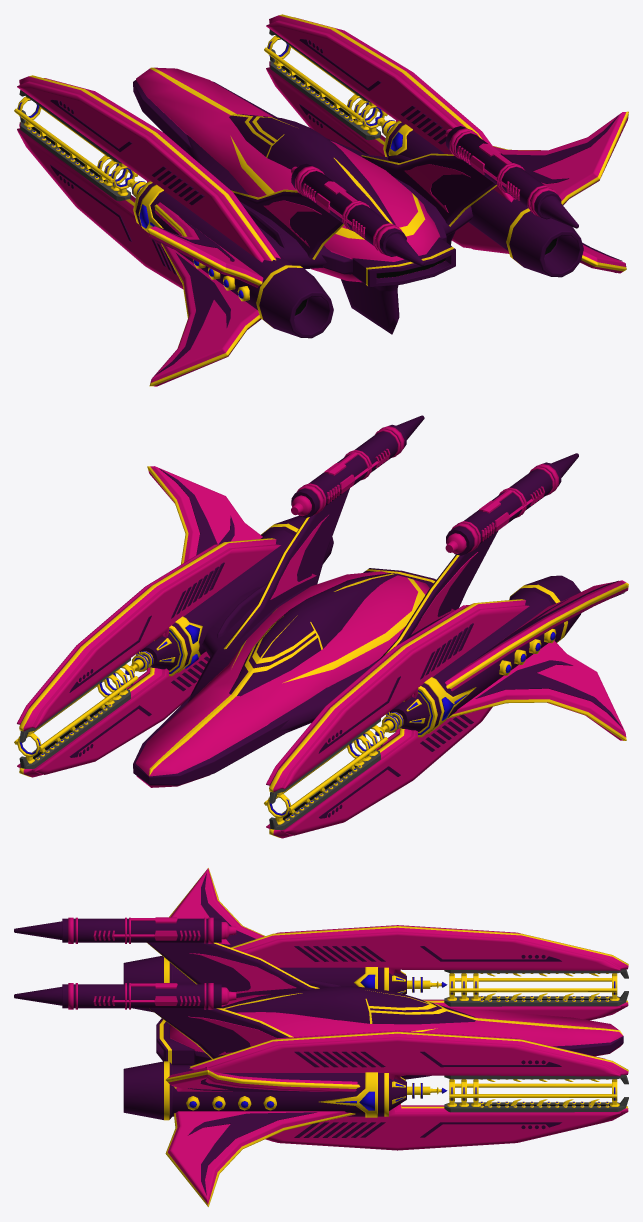
Rendered from AlienStarfighter30.obj.
3 renders of one model, top to bottom at view 1: azimuth 30°, elevation 25°; view 2: azimuth 150°, elevation 25°; view 3: azimuth 270°, elevation 25°, orthographic. The views are drawn at different scales.
Visible parts, largest first — view 1: Cylinder.003_Cylinder.005, Sphere.002_Sphere.004, Cylinder.001_Cylinder.006, Cube.001, Cylinder.004_Cylinder.002, Cube.004_Cube.002, Sphere.001_Sphere.003, Cube.005, Cylinder.010_Cylinder.003, Cube.006, Cylinder.006_Cylinder.007, Cube.019_Cube.034 (+11 smaller); view 2: Cylinder.003_Cylinder.005, Sphere.002_Sphere.004, Cylinder.001_Cylinder.006, Sphere.001_Sphere.003, Cube.005, Cube.001, Cylinder.004_Cylinder.002, Cube.004_Cube.002, Cylinder.010_Cylinder.003, Cube.006, Cube.010, Cube.019_Cube.034 (+7 smaller); view 3: Cylinder.003_Cylinder.005, Cylinder.001_Cylinder.006, Sphere.002_Sphere.004, Cylinder.004_Cylinder.002, Cube.001, Sphere.001_Sphere.003, Cube.004_Cube.002, Cube.006, Cube.005, Cylinder.022_Cylinder.030, Cube.010, Cube.017_Cube.028 (+8 smaller).
Part boxes in pixels (box(x1,y1,x2,y2)): Cylinder.003_Cylinder.005: box(17, 14, 516, 288); Sphere.002_Sphere.004: box(133, 67, 455, 287); Cylinder.001_Cylinder.006: box(125, 116, 583, 338); Cube.001: box(230, 153, 496, 259); Cylinder.004_Cylinder.002: box(291, 126, 578, 266); Cube.004_Cube.002: box(149, 243, 626, 386); Sphere.001_Sphere.003: box(229, 114, 395, 225); Cube.005: box(147, 111, 628, 287); Cylinder.010_Cylinder.003: box(183, 135, 473, 269); Cube.006: box(19, 29, 380, 201); Cylinder.006_Cylinder.007: box(341, 279, 399, 334); Cube.019_Cube.034: box(155, 243, 622, 375); Cylinder.003_Cylinder.005: box(17, 538, 529, 838); Sphere.002_Sphere.004: box(133, 568, 436, 787); Cylinder.001_Cylinder.006: box(125, 516, 581, 737); Sphere.001_Sphere.003: box(229, 573, 397, 696); Cube.005: box(147, 466, 628, 691); Cube.001: box(223, 488, 498, 661); Cylinder.004_Cylinder.002: box(291, 415, 578, 555); Cube.004_Cube.002: box(447, 640, 626, 740); Cylinder.010_Cylinder.003: box(188, 586, 379, 732); Cube.006: box(19, 658, 380, 830); Cube.010: box(171, 562, 473, 751); Cube.019_Cube.034: box(475, 660, 622, 728); Cylinder.003_Cylinder.005: box(189, 925, 628, 1150); Cylinder.001_Cylinder.006: box(123, 956, 447, 1120); Sphere.002_Sphere.004: box(156, 994, 623, 1076); Cylinder.004_Cylinder.002: box(14, 918, 236, 1008); Cube.001: box(147, 942, 319, 1059); Sphere.001_Sphere.003: box(221, 986, 476, 1024); Cube.004_Cube.002: box(165, 1111, 355, 1206); Cube.006: box(444, 969, 628, 1112); Cube.005: box(166, 868, 360, 1091); Cylinder.022_Cylinder.030: box(449, 978, 616, 1097); Cube.010: box(294, 946, 385, 1137); Cube.017_Cube.028: box(188, 953, 296, 1055).
Bounding box in the file's own units: 6.19 × 2.28 × 7.88.
